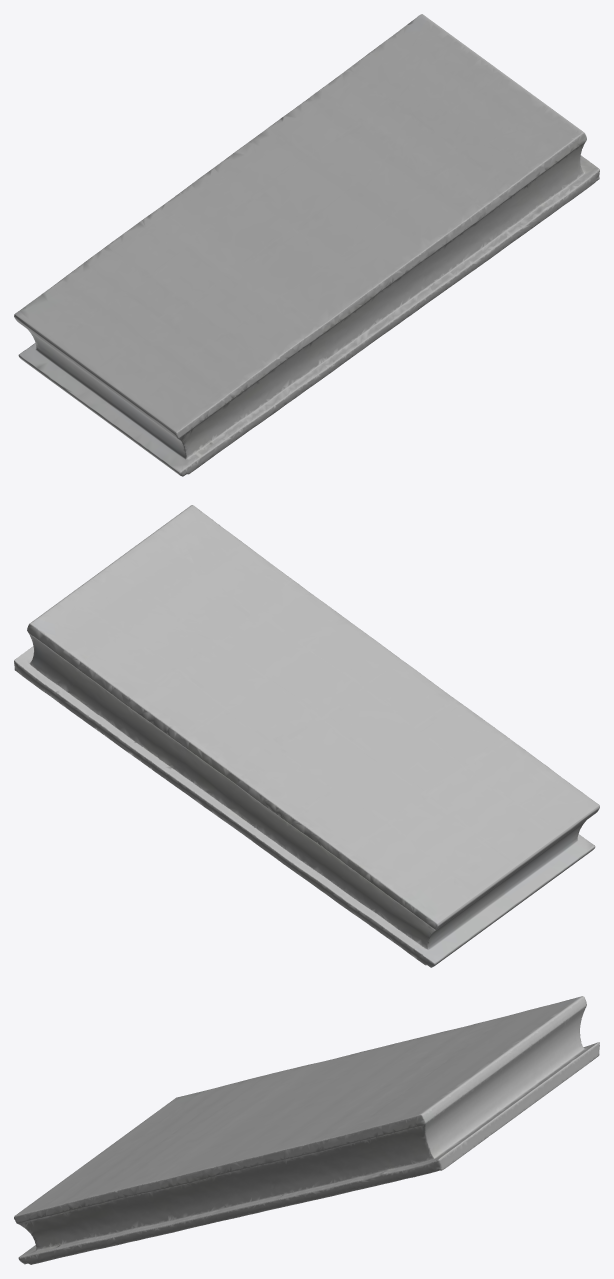
File: 天花板面板.glb
3 renders of one model, top to bottom at view 1: azimuth 30°, elevation 25°; view 2: azimuth 150°, elevation 25°; view 3: azimuth 330°, elevation 25°, orthographic.
Parts seen in each view (by area): view 1: tripo_node_84411d6b-7b77-4d76-8d72-2fd59f99be10; view 2: tripo_node_84411d6b-7b77-4d76-8d72-2fd59f99be10; view 3: tripo_node_84411d6b-7b77-4d76-8d72-2fd59f99be10.
Boxes of the visible parts, <box> form: tripo_node_84411d6b-7b77-4d76-8d72-2fd59f99be10: <box>14,14,599,476</box>; tripo_node_84411d6b-7b77-4d76-8d72-2fd59f99be10: <box>14,505,599,967</box>; tripo_node_84411d6b-7b77-4d76-8d72-2fd59f99be10: <box>14,996,599,1264</box>.
Size of the model in its own units: 1 by 0.5567 by 0.6605.
Materials: 1 (1 with a texture image).
